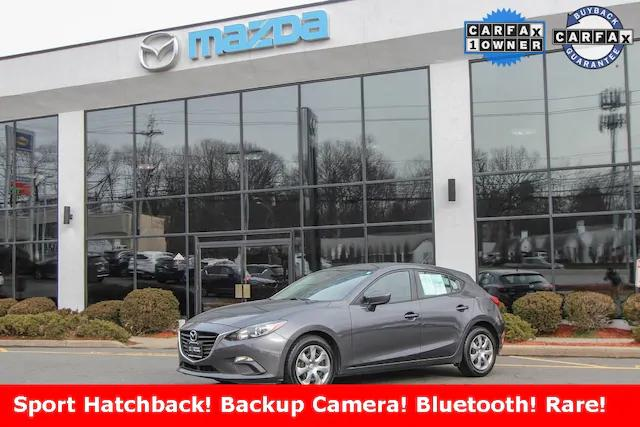Mazda3 Hatchback: (173, 259, 509, 389)
